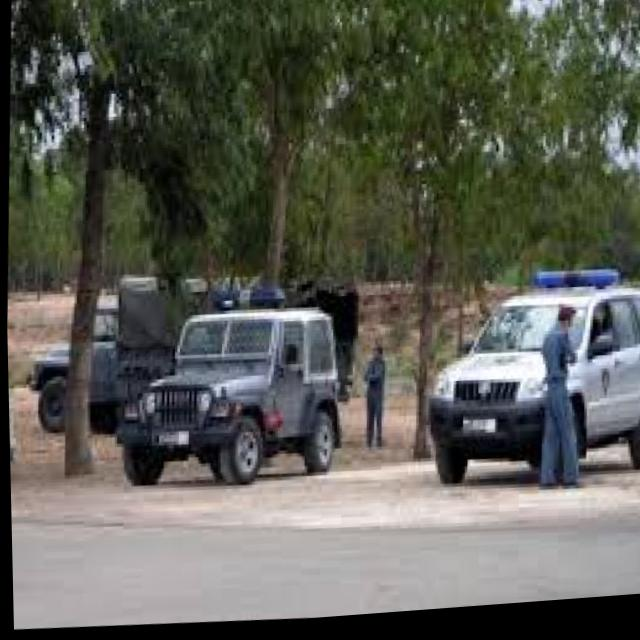gendarme car: (417, 248, 640, 503)
